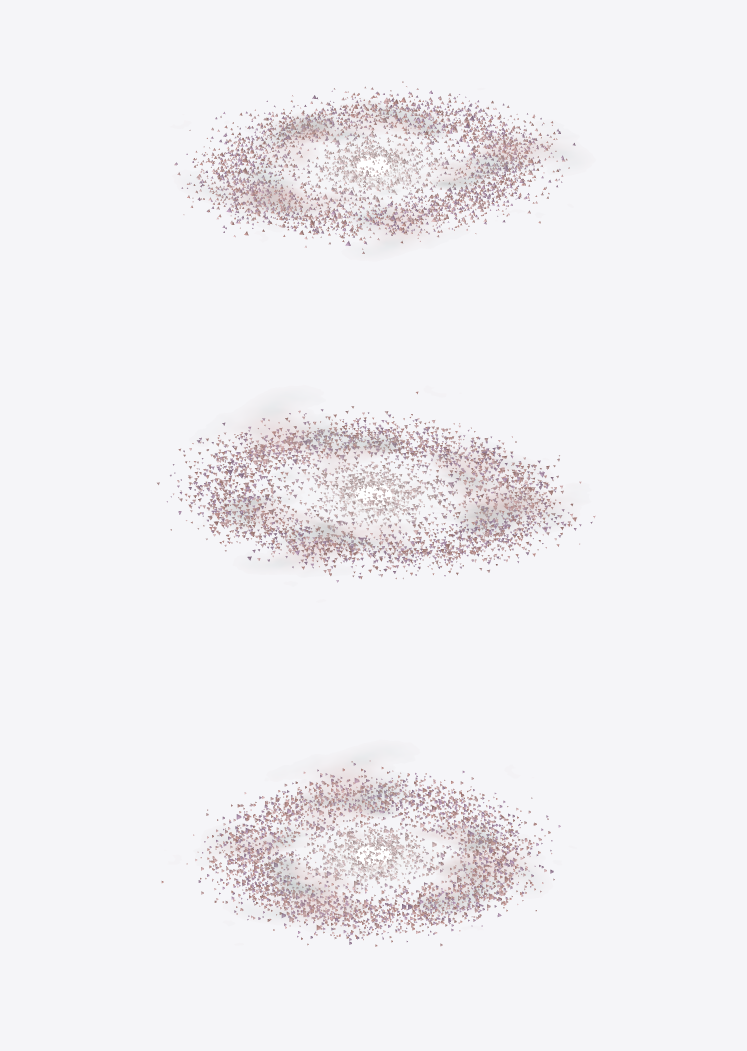
File: galaxy_2026.glb
3 views of the same model, one above another, from view 1: azimuth 30°, elevation 25°; view 2: azimuth 150°, elevation 25°; view 3: azimuth 270°, elevation 25° (orthographic). The views are drawn at different scales.
Visible parts, largest first — view 1: StarPoints, Veil0, Veil4, Veil2, Veil1, Veil3, CoreGlow; view 2: StarPoints, Veil0, Veil2, Veil4, Veil1, Veil3, CoreGlow; view 3: StarPoints, Veil4, Veil0, Veil2, Veil3, Veil1.
Boxes of the visible parts, x1=… form: StarPoints: x1=174, y1=81, x2=575, y2=253; Veil0: x1=311, y1=140, x2=435, y2=195; Veil4: x1=217, y1=104, x2=443, y2=207; Veil2: x1=256, y1=139, x2=563, y2=217; Veil1: x1=262, y1=118, x2=427, y2=245; Veil3: x1=297, y1=129, x2=488, y2=188; CoreGlow: x1=356, y1=155, x2=390, y2=177; StarPoints: x1=157, y1=391, x2=595, y2=582; Veil0: x1=306, y1=467, x2=440, y2=525; Veil2: x1=245, y1=409, x2=526, y2=534; Veil4: x1=222, y1=493, x2=555, y2=527; Veil1: x1=312, y1=453, x2=513, y2=550; Veil3: x1=276, y1=436, x2=399, y2=565; CoreGlow: x1=355, y1=483, x2=392, y2=507; StarPoints: x1=161, y1=760, x2=560, y2=946; Veil4: x1=315, y1=758, x2=502, y2=912; Veil0: x1=309, y1=833, x2=437, y2=881; Veil2: x1=274, y1=798, x2=392, y2=919; Veil3: x1=268, y1=849, x2=528, y2=889; Veil1: x1=221, y1=825, x2=496, y2=857.
Bounding box in the file's own units: 12.78 × 1.2 × 12.79.
7 materials, 5 textured.
